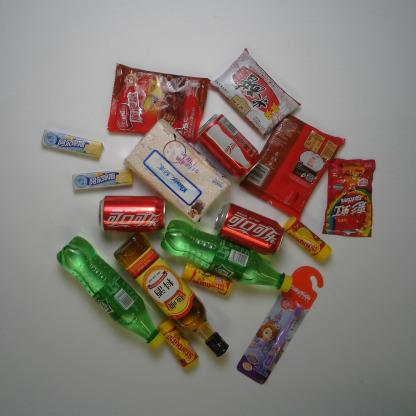Candy: (322, 157, 376, 238), (281, 216, 332, 262), (156, 318, 199, 370), (40, 129, 104, 159), (180, 261, 234, 296), (72, 168, 133, 191)
Dessert: (238, 114, 346, 221), (106, 63, 211, 144)
Drink: (55, 235, 166, 352), (159, 218, 294, 293), (194, 112, 262, 180), (212, 201, 286, 256), (98, 195, 166, 233)
Personal Hygiene: (236, 265, 324, 386)
Seasoner: (112, 231, 230, 360), (207, 47, 302, 138)
Tissue: (122, 118, 232, 224)
